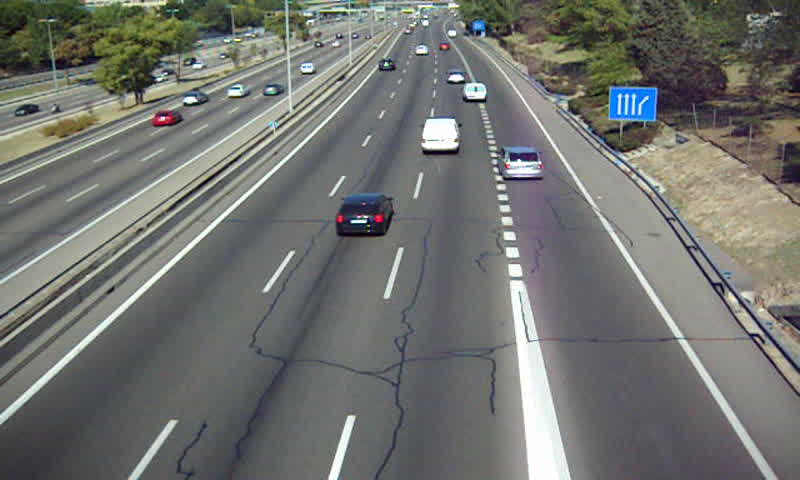car: (335, 193, 394, 235), (496, 146, 544, 180), (448, 69, 467, 85), (413, 44, 432, 57), (378, 58, 395, 72)
van: (421, 118, 461, 155), (461, 82, 488, 102)
